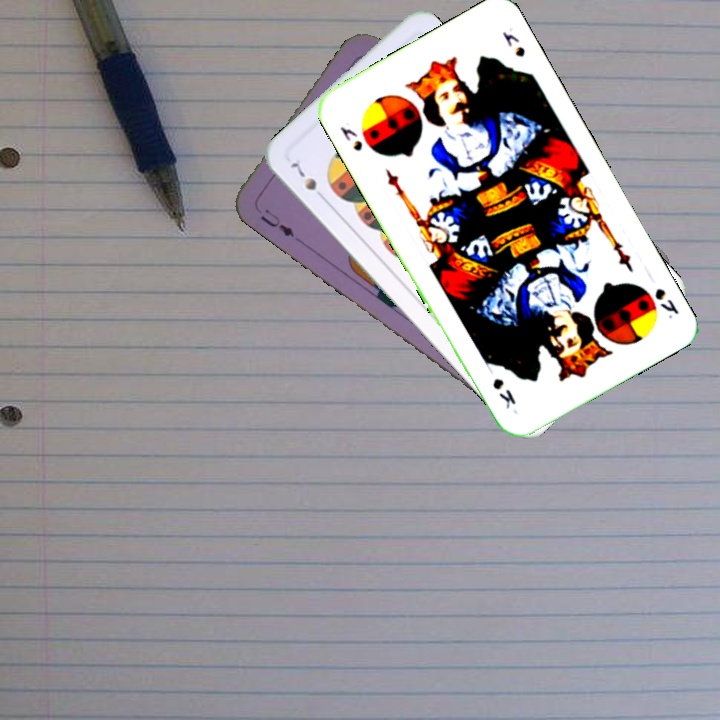EU: (256, 204, 297, 240)
S7: (286, 158, 329, 204)
SK: (650, 284, 682, 321), (335, 122, 366, 154)
